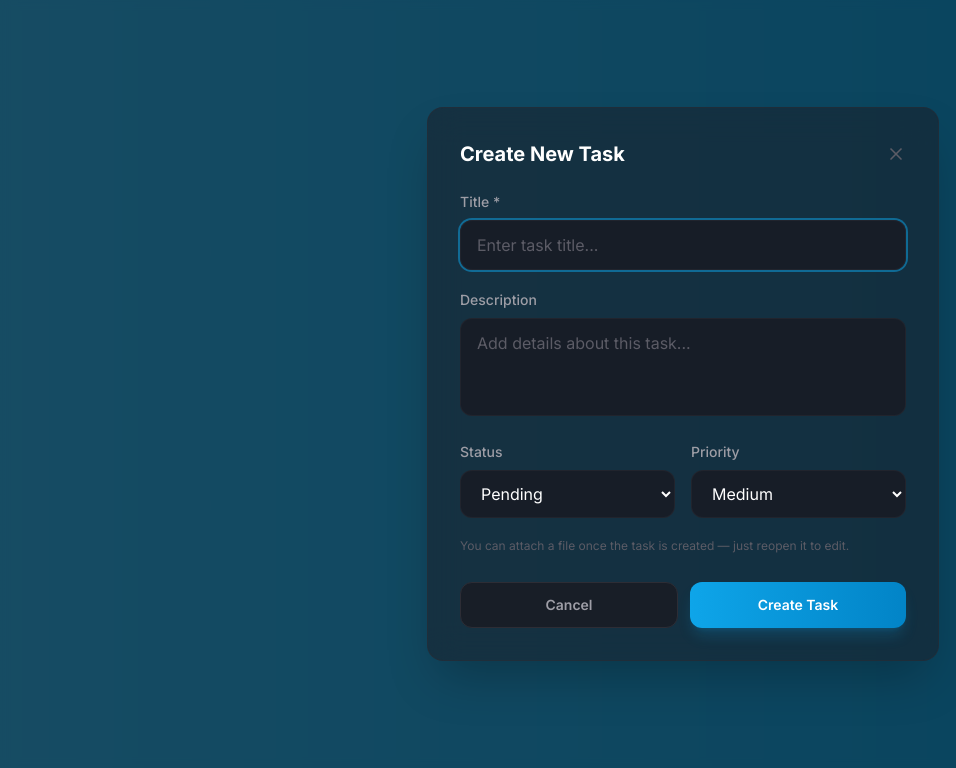
Test: TaskModal › shows a validation error and blocks submit when title is empty
This screenshot has width=956, height=768.
Click the button "Create Task" at (798, 605), box [690,582,906,628]
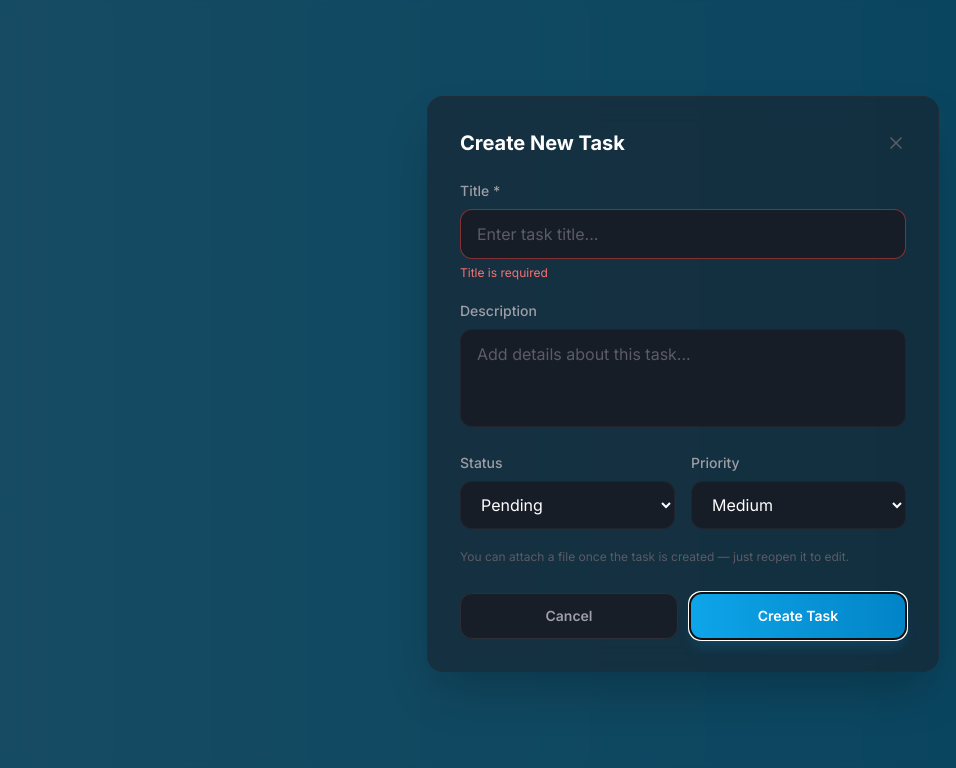
Result: the text "Title is required" is shown at [460,265,548,280]
